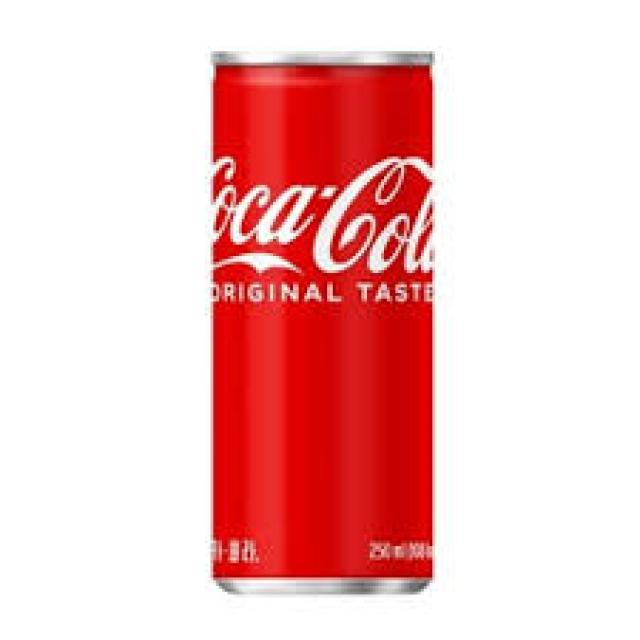Coca-Cola: (197, 34, 445, 616)
